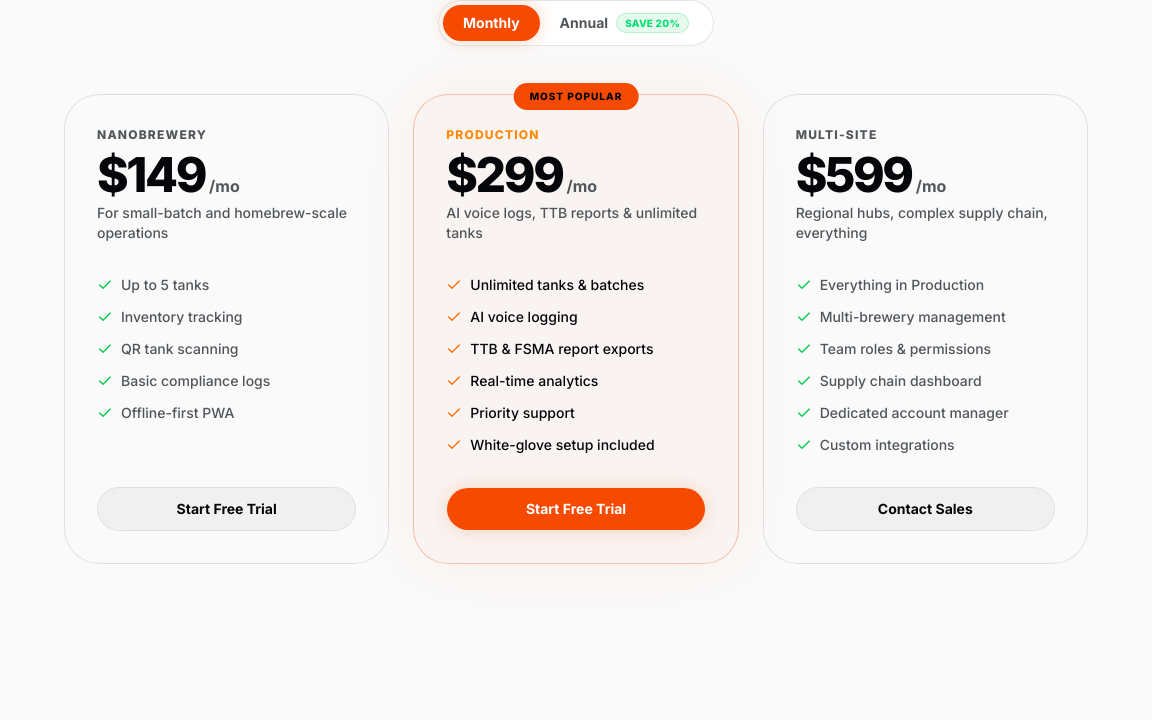
Test: PricingCards › switches to annual prices when toggle is clicked
Click the radio button labelled "Annual Save 20%": click(624, 23) [540,5,709,41]
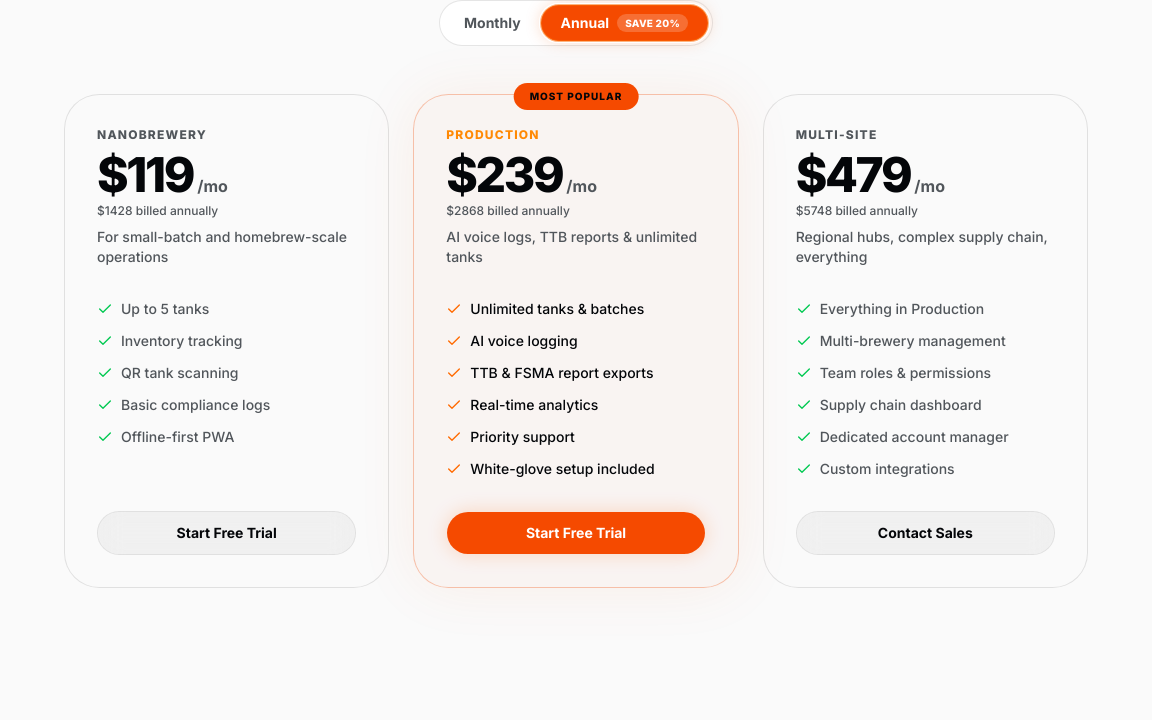
Expected: the text "$119" is shown, [97,151,193,199]
Expected: the text "$239" is shown, [446,151,562,199]
Expected: the text "$479" is shown, [796,151,910,199]
